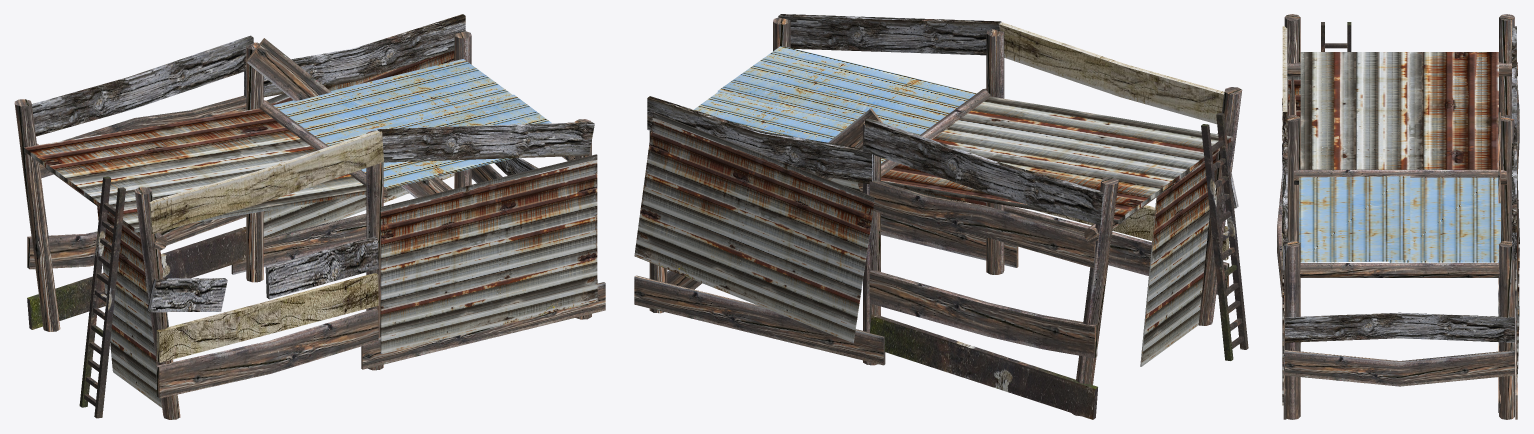
File: shack_06.fbx
3 views of the same model, side by side, from view 1: azimuth 30°, elevation 25°; view 2: azimuth 150°, elevation 25°; view 3: azimuth 270°, elevation 25° (orthographic). The views are drawn at different scales.
Parts seen in each view (by area): view 1: shack_06; view 2: shack_06; view 3: shack_06.
Boxes of the visible parts, x1,y1,x2,y2 form: shack_06: [14, 14, 605, 419]; shack_06: [634, 14, 1248, 419]; shack_06: [1277, 14, 1519, 419].
Size of the model in its own units: 6.41 by 3.04 by 3.09.
